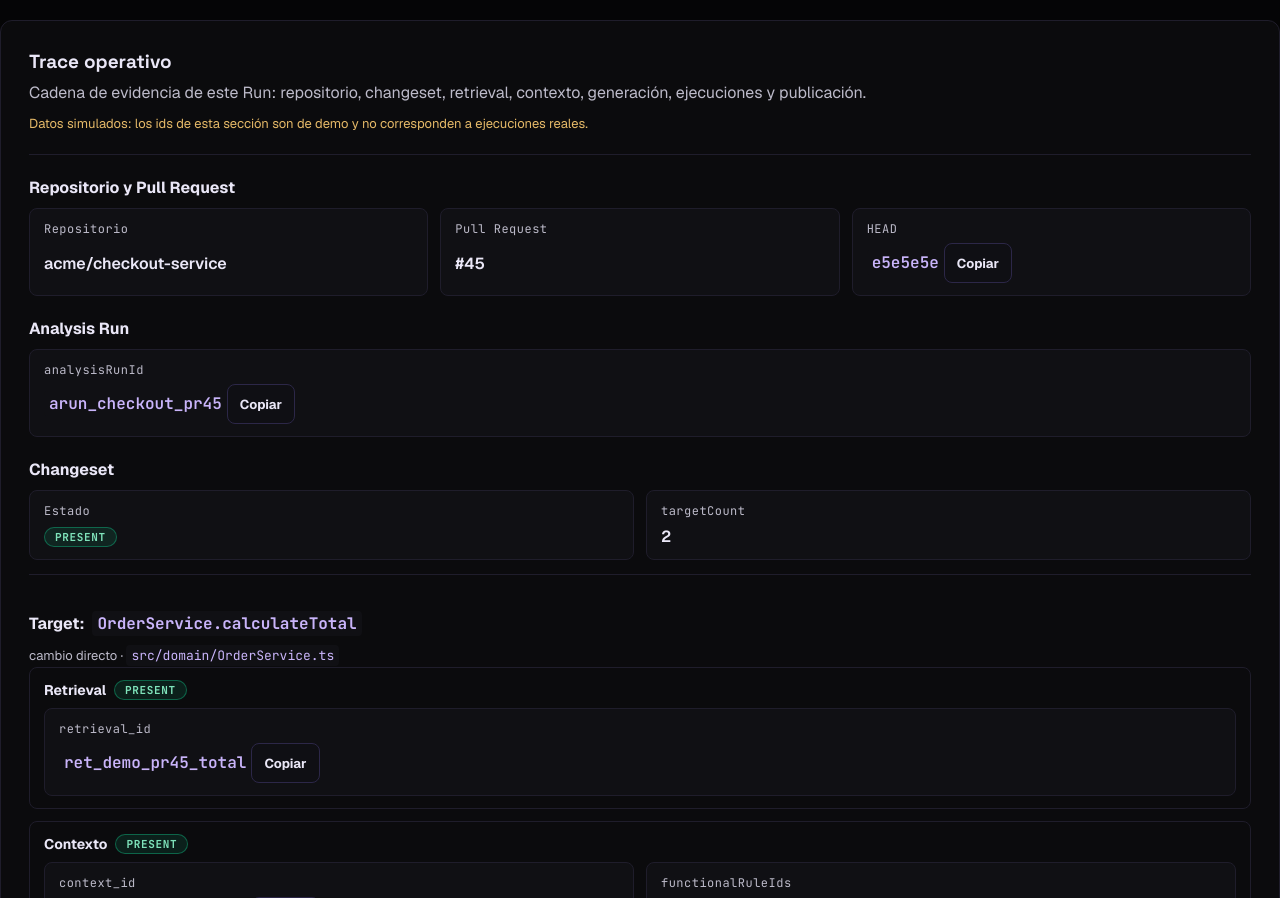
Test case: Copiar: sin navigator.clipboard muestra el mismo fallo
What coordinates should you click on to do the following:
click the button with aria-label "Copiar headSha e5e5e5e"
I would click on:
 (978, 263)
Its box is [944,243,1012,283].
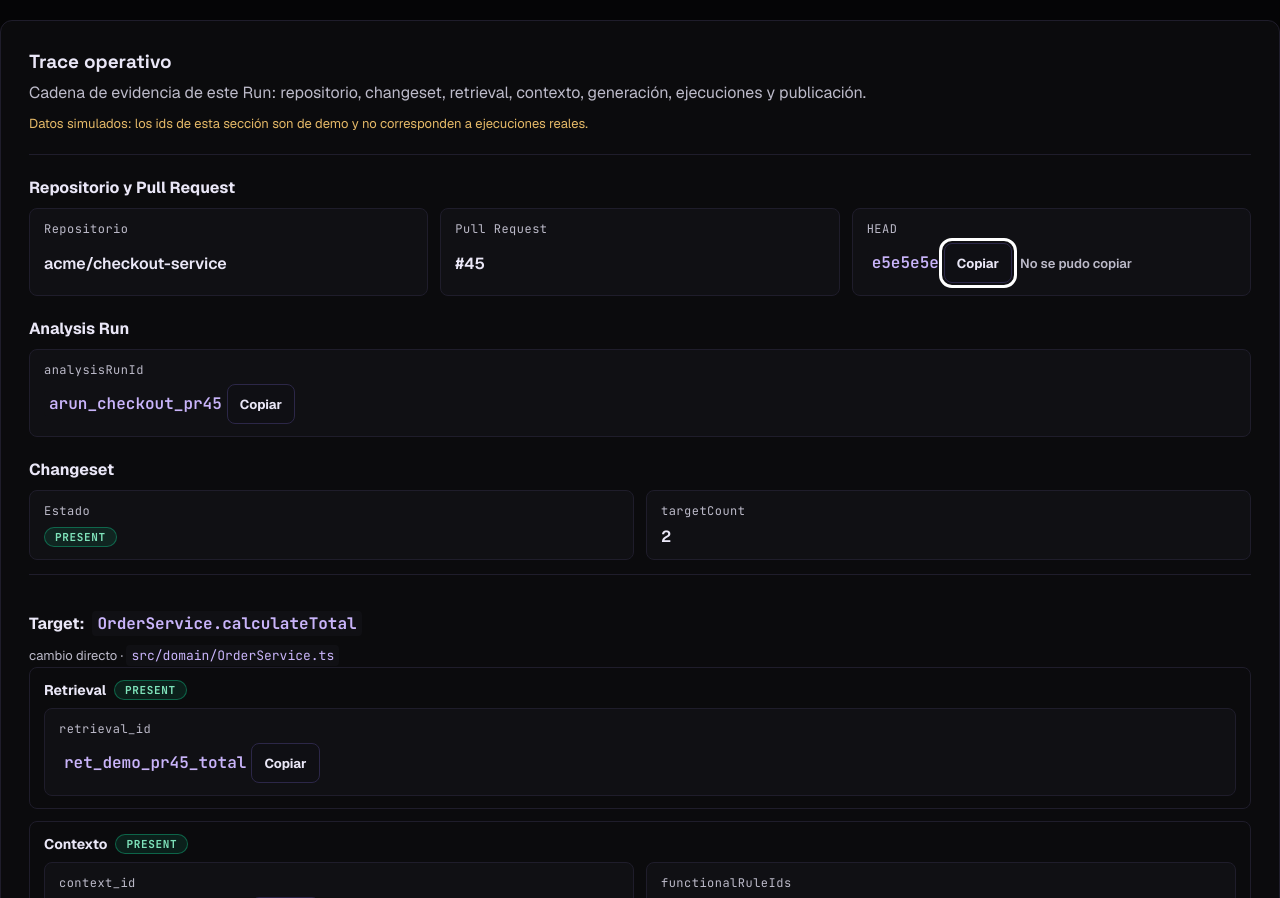
expect the text "No se pudo copiar" is shown: met, box [1020,255,1132,272]
